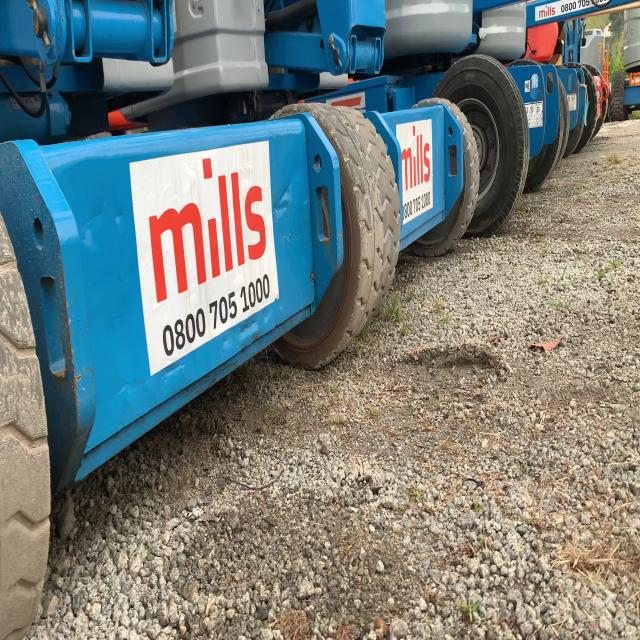Adesivos: (127, 136, 283, 385), (395, 118, 434, 227)
